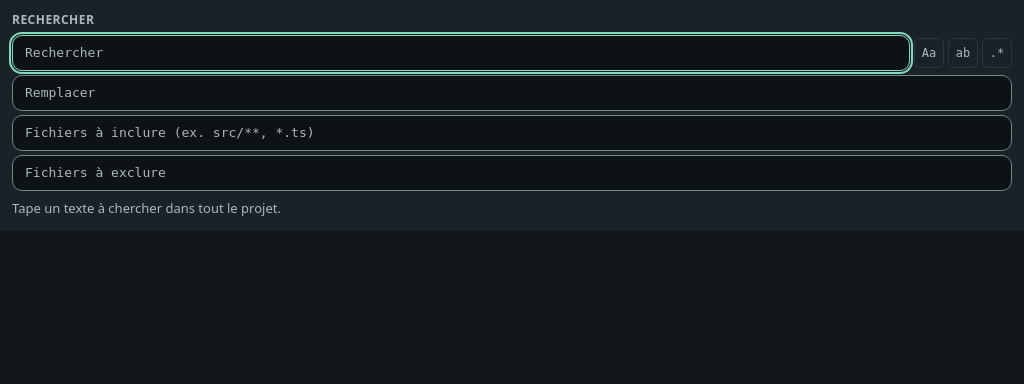
Test case: ProjectSearch › passes case and whole-word options to the search
The width and height of the screenshot is (1024, 384).
Click the button with aria-label "Respecter la casse" at (929, 53), box top-left (914, 38), bottom-right (944, 68)
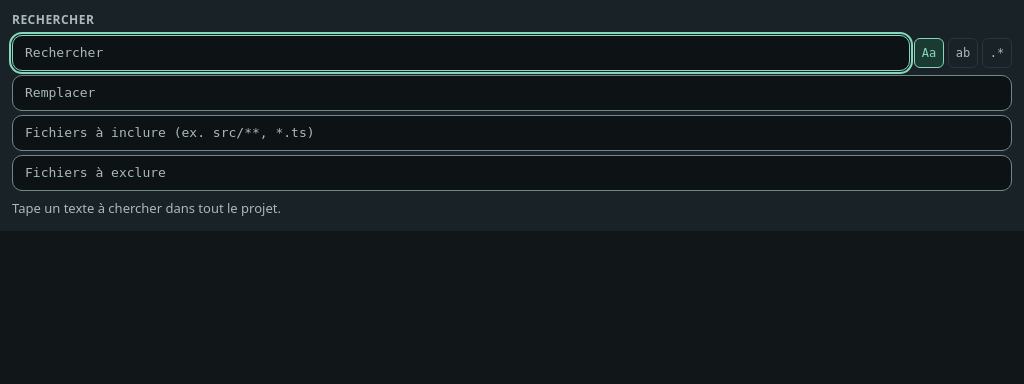
Click the button with aria-label "Mot entier" at (963, 53), box top-left (948, 38), bottom-right (978, 68)
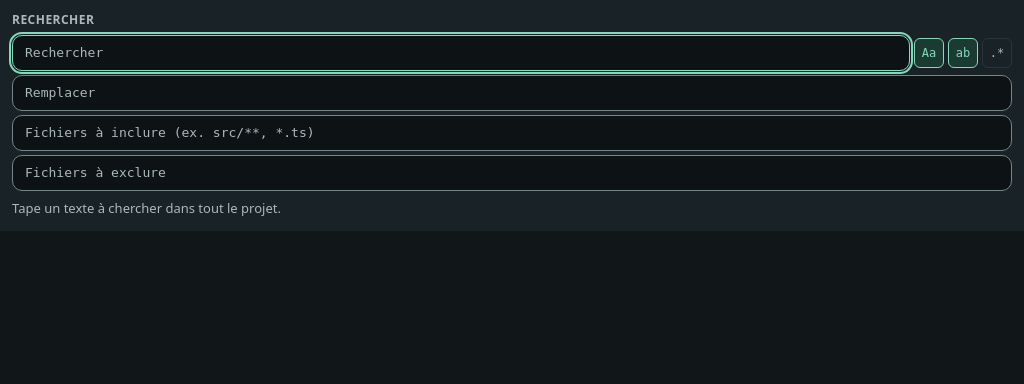
Type "TODO" into the field labelled "Rechercher" at (461, 53), box top-left (12, 35), bottom-right (910, 71)
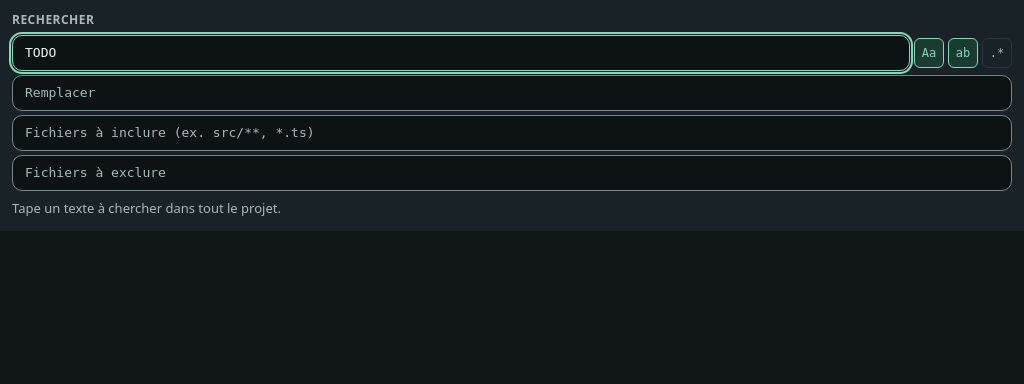
Submit the form named "Rechercher", box top-left (12, 35), bottom-right (1012, 191)
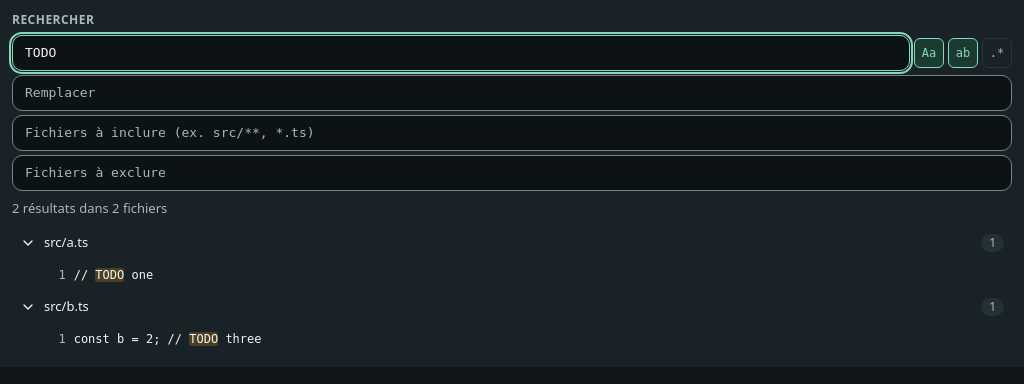
Result: the text "2 résultats dans 2 fichiers" is shown at top-left (12, 199), bottom-right (167, 217)
